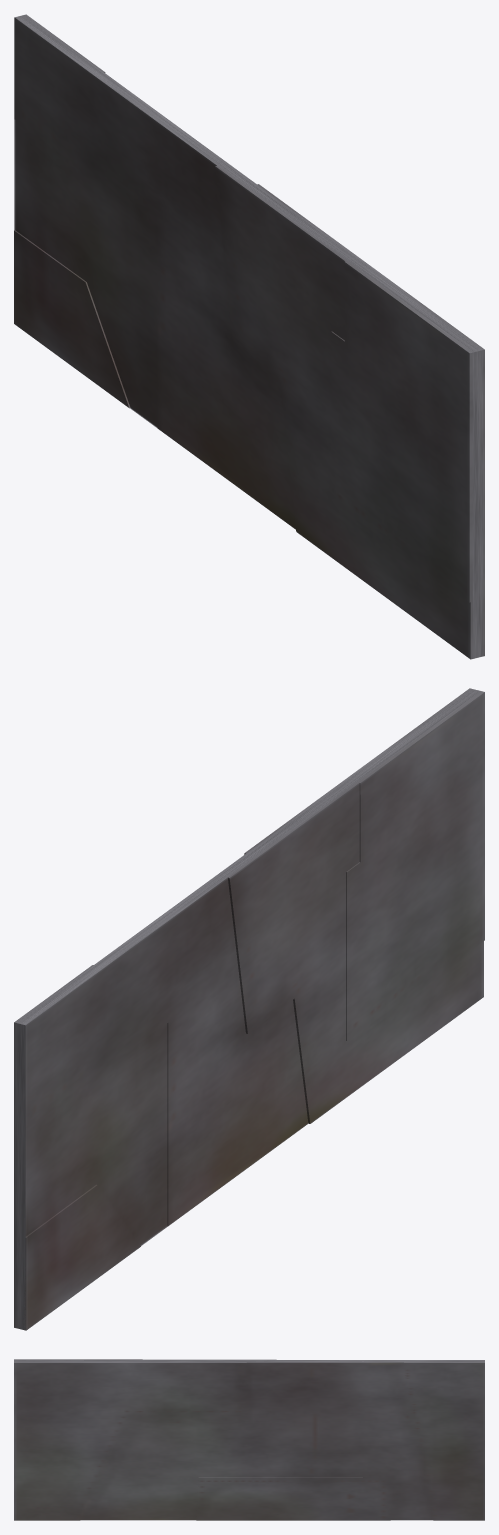
Rendered from Metal steampunk wall.glb.
The picture shows the model from 3 angles, top to bottom: view 1: azimuth 30°, elevation 25°; view 2: azimuth 150°, elevation 25°; view 3: azimuth 270°, elevation 25°; orthographic projection. The views are drawn at different scales.
Parts seen in each view (by area): view 1: Cube; view 2: Cube; view 3: Cube.
Boxes of the visible parts, bbox=[...] form: Cube: bbox=[14, 14, 484, 659]; Cube: bbox=[14, 688, 484, 1330]; Cube: bbox=[14, 1359, 484, 1520].
Size of the model in its own units: 0.9666 by 18.52 by 50.18.
1 material, 1 textured.
